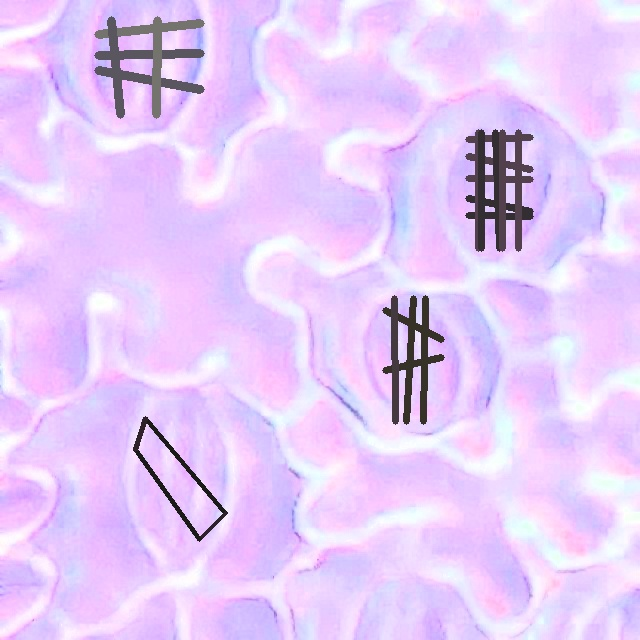close: (95, 16, 204, 117), (466, 129, 533, 251)
open: (133, 416, 227, 541), (382, 295, 444, 424)
